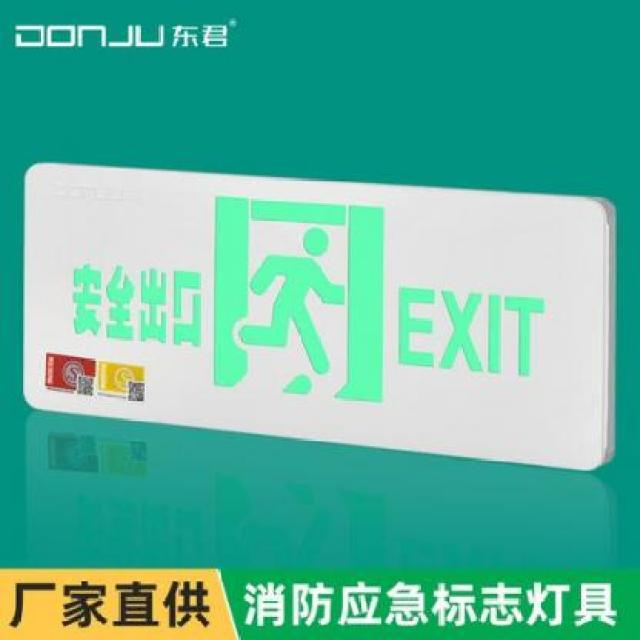exit_sign: (22, 157, 613, 485)
